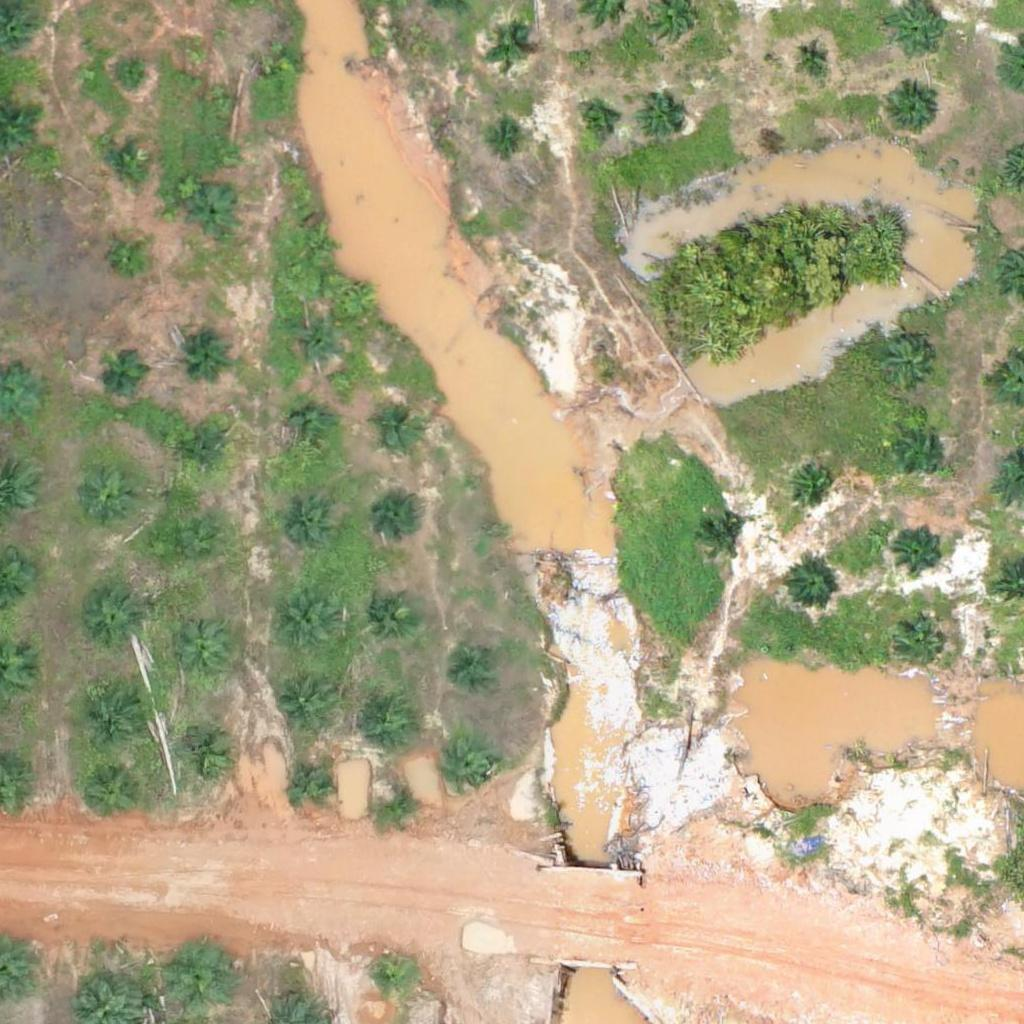Kelapa_Sawit: (160, 519, 223, 582), (275, 495, 338, 558), (273, 592, 336, 655), (80, 761, 143, 824), (169, 942, 232, 1005), (360, 688, 423, 751), (274, 673, 337, 736), (82, 466, 144, 529), (84, 683, 146, 746), (81, 587, 143, 650), (170, 625, 232, 688), (175, 723, 237, 786), (360, 583, 422, 646), (880, 80, 942, 143), (287, 758, 337, 809), (373, 779, 423, 830), (883, 341, 933, 392), (894, 424, 944, 475), (894, 522, 944, 573), (99, 137, 149, 188), (376, 494, 426, 544), (183, 325, 233, 375), (101, 350, 151, 400), (290, 320, 340, 370), (189, 189, 239, 239), (286, 405, 336, 455), (372, 404, 422, 454), (785, 562, 835, 612), (444, 745, 494, 795), (454, 640, 504, 690), (366, 953, 416, 1003), (896, 623, 946, 673), (788, 458, 838, 508), (697, 514, 747, 564), (180, 429, 230, 479), (638, 92, 688, 142), (298, 227, 336, 265), (110, 238, 148, 276), (488, 28, 526, 66), (489, 119, 527, 157), (576, 102, 614, 140), (202, 79, 240, 117), (795, 39, 832, 77), (266, 41, 303, 79), (112, 60, 149, 97)
